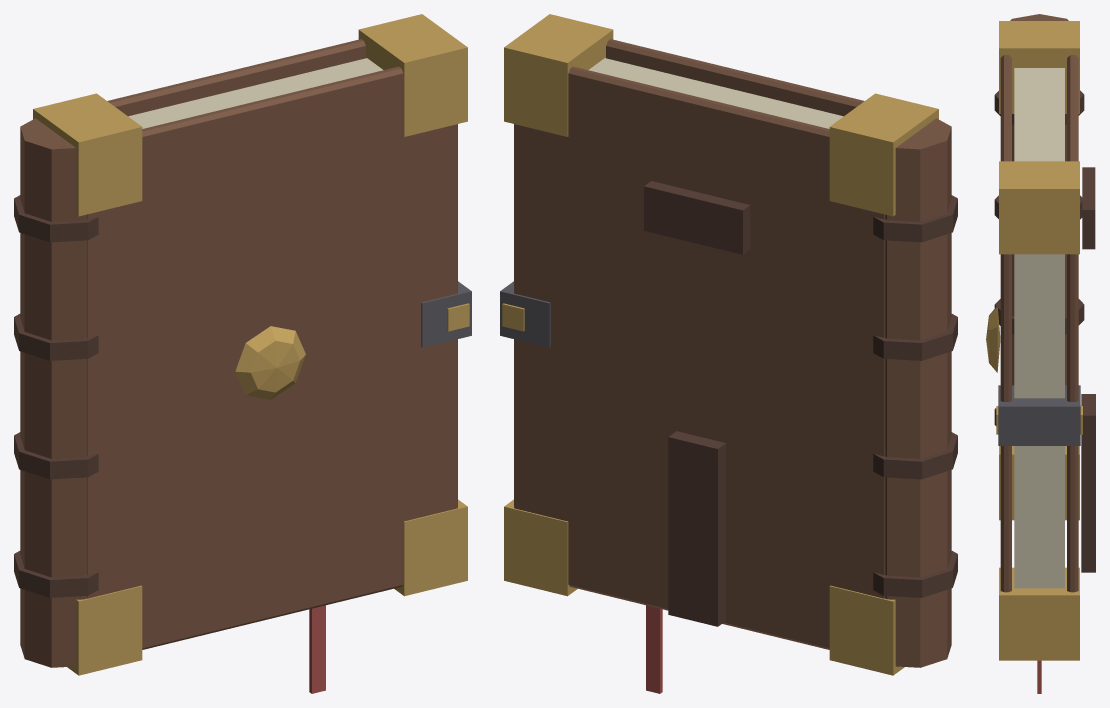
File: ledger_book.glb
The picture shows the model from 3 angles, left to right: view 1: azimuth 30°, elevation 25°; view 2: azimuth 150°, elevation 25°; view 3: azimuth 270°, elevation 25°; orthographic projection. The views are drawn at different scales.
Parts seen in each view (by area): view 1: ledger_book; view 2: ledger_book; view 3: ledger_book.
Boxes of the visible parts, left/top/right/bottom form: ledger_book: left=14, top=14, right=471, bottom=693; ledger_book: left=500, top=14, right=957, bottom=693; ledger_book: left=986, top=14, right=1095, bottom=693.
Size of the model in its own units: 0.607 by 0.85 by 0.152.
